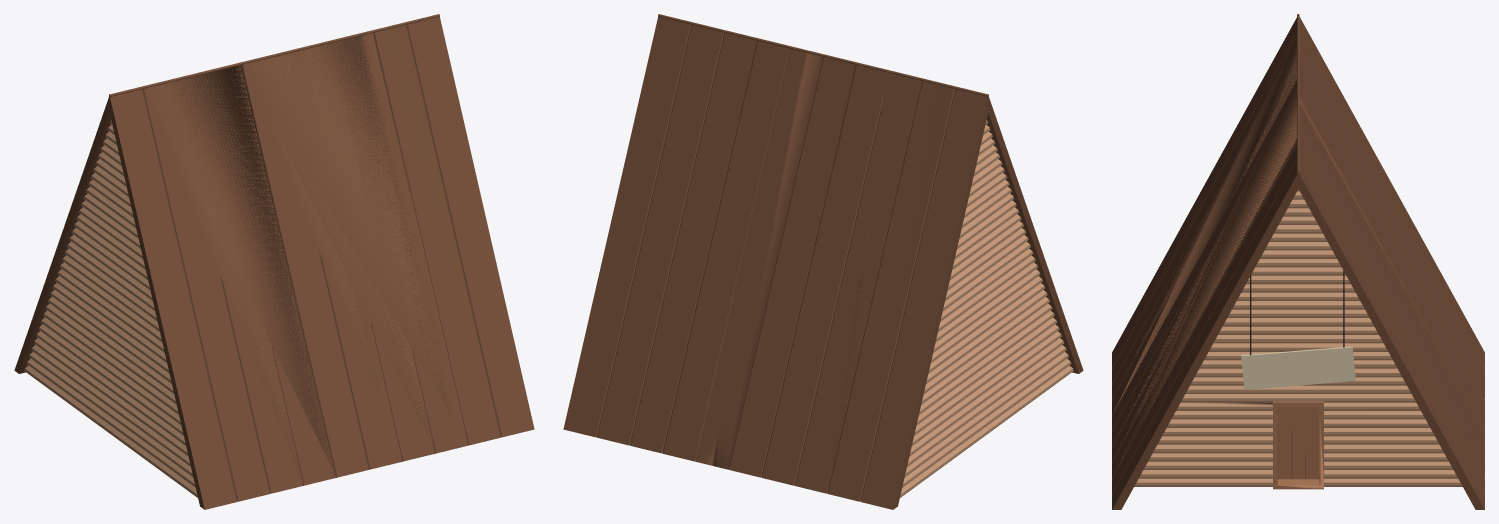
The model's file is Shop.fbx.
The picture shows the model from 3 angles, left to right: view 1: azimuth 30°, elevation 25°; view 2: azimuth 150°, elevation 25°; view 3: azimuth 270°, elevation 25°; orthographic projection. The views are drawn at different scales.
Parts seen in each view (by area): view 1: Shop; view 2: Shop; view 3: Shop.
Boxes of the visible parts, bbox=[...] form: Shop: bbox=[14, 14, 534, 509]; Shop: bbox=[563, 14, 1083, 509]; Shop: bbox=[1112, 14, 1484, 509].
Bounding box in the file's own units: 1600 × 1603 × 1600.
